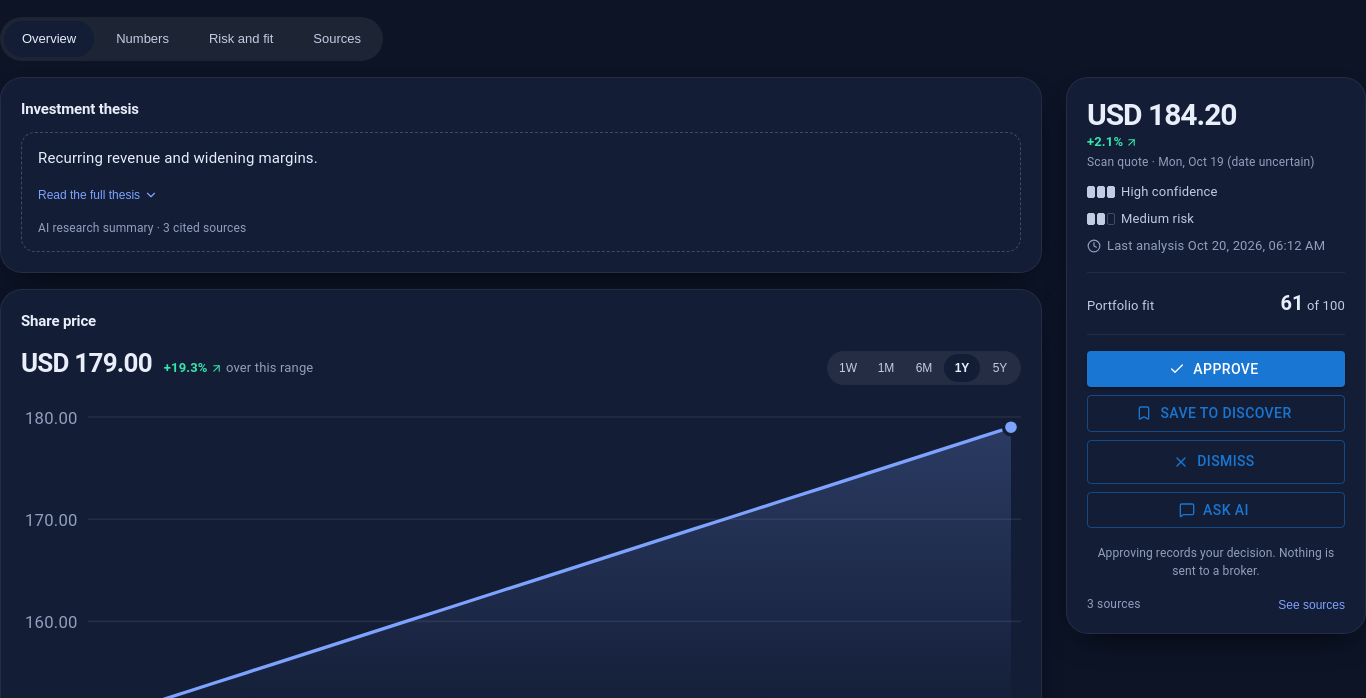
Test: Workbench tabs › shows the written portfolio-fit explanation on the Risk and fit tab, not on Overview
Expected: the tab "Overview" is shown, [4,21,94,57]
Expected: the text "It would add software exposure you do not have." is not shown
Click the tab "Risk and fit" at (241, 39), box [191,21,291,57]
(page scrolled)
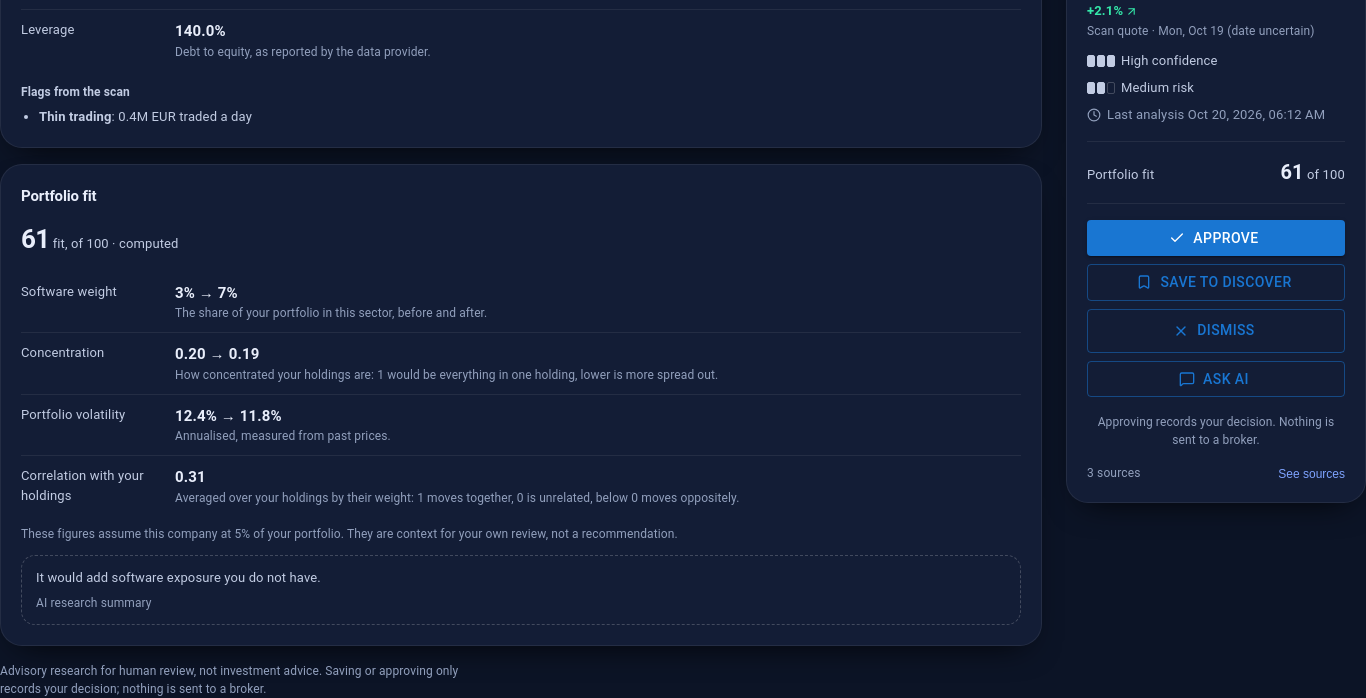
Expected: the text "It would add software exposure you do not have." is shown, [36,570,321,585]
